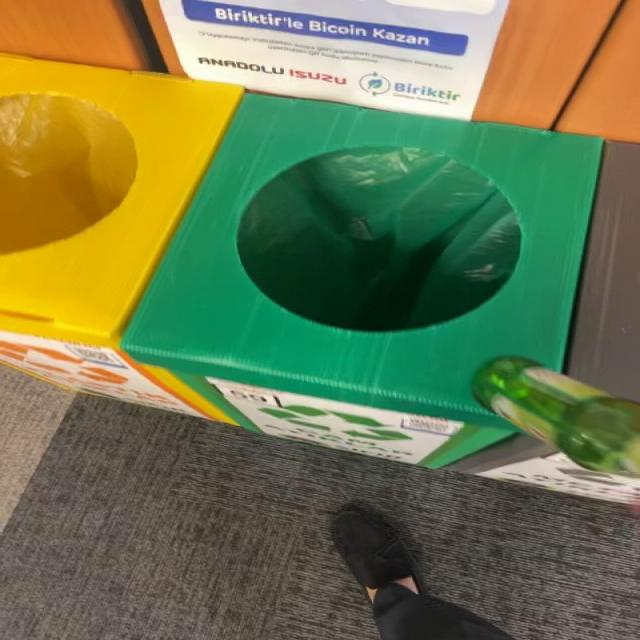glass: (472, 358, 640, 474)
